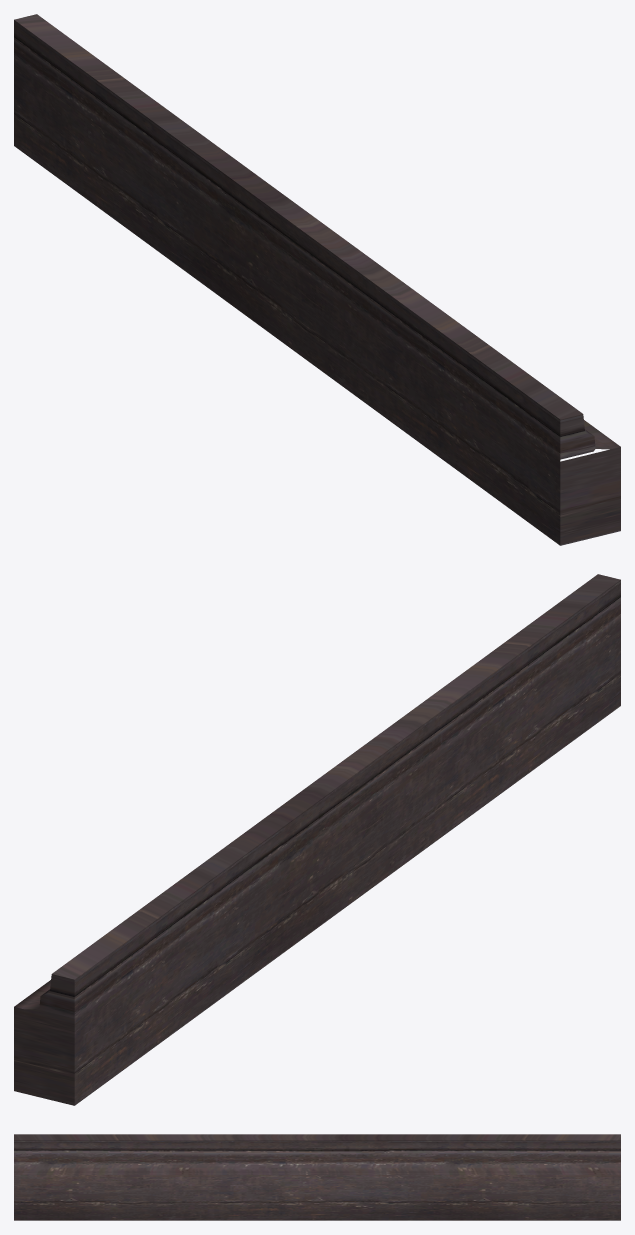
Rendered from souphalftrim002.glb.
The picture shows the model from 3 angles, top to bottom: view 1: azimuth 30°, elevation 25°; view 2: azimuth 150°, elevation 25°; view 3: azimuth 270°, elevation 25°; orthographic projection. The views are drawn at different scales.
Visible parts, largest first — view 1: souphalftrim002_high_1; view 2: souphalftrim002_high_1; view 3: souphalftrim002_high_1.
Boxes of the visible parts, x1,y1,x2,y2 form: souphalftrim002_high_1: (14,14,620,545); souphalftrim002_high_1: (14,574,620,1105); souphalftrim002_high_1: (14,1134,620,1220).
Bounding box in the file's own units: 0.0861 × 0.1712 × 1.34.
1 material, 1 textured.
